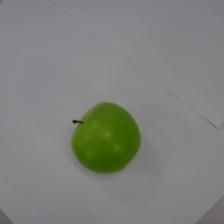green: (70, 100, 142, 174)
